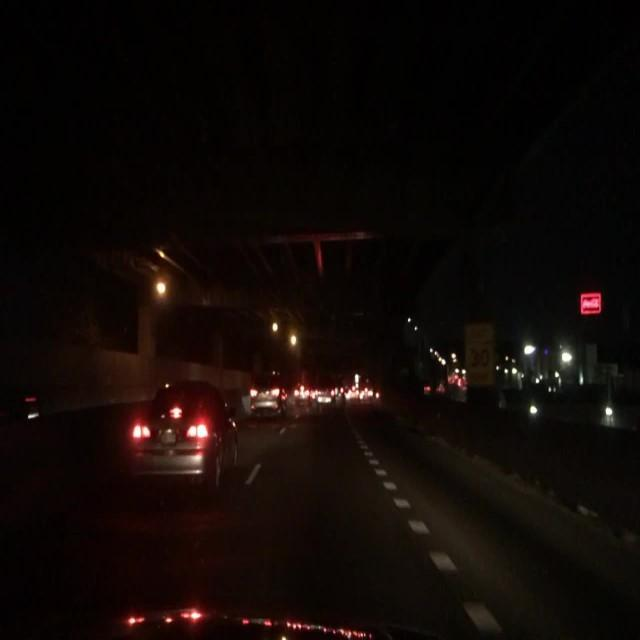normal: (126, 381, 243, 494)
